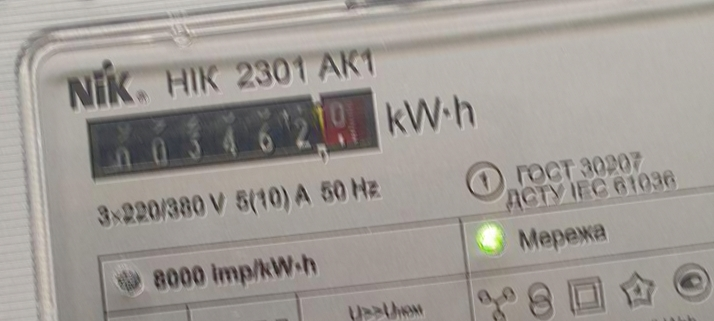0: (148, 135, 169, 166), (328, 101, 348, 130), (111, 145, 133, 170)
2: (291, 116, 313, 150)
3: (183, 129, 204, 163)
4: (220, 124, 240, 158)
6: (253, 120, 277, 156)
9: (112, 123, 134, 144)
screen: (72, 76, 392, 201)
